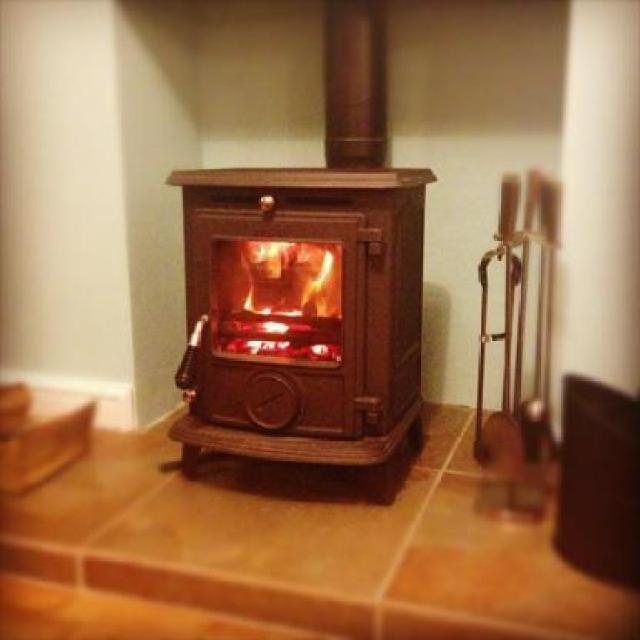Fire: (243, 242, 340, 313), (250, 340, 288, 352), (258, 322, 286, 338), (311, 341, 327, 357)
